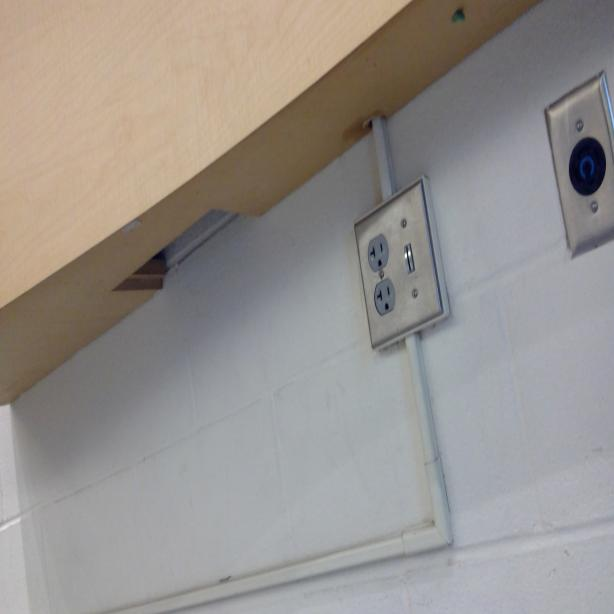typeb: (367, 235, 388, 272), (374, 283, 393, 312)
